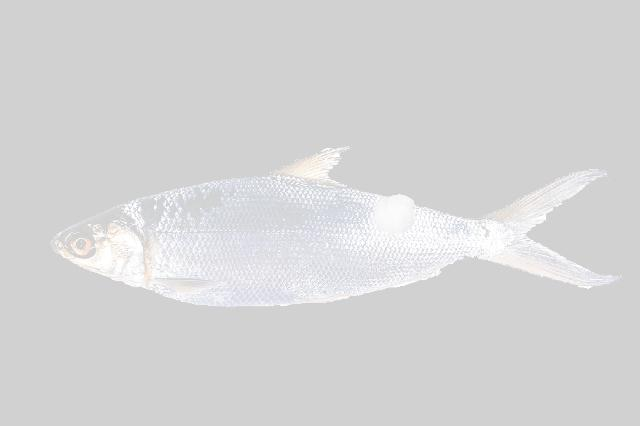Fungal Disease -Saprolegniasis-: (51, 148, 617, 307)
